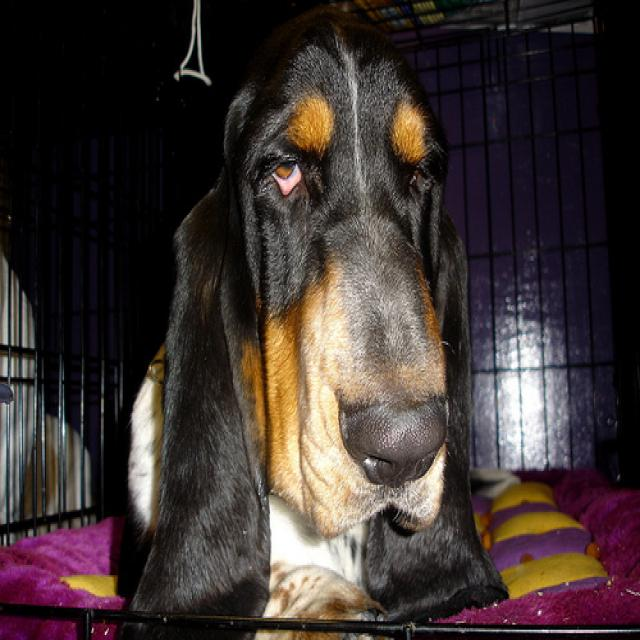dog-basset_hound: (111, 2, 520, 637)
